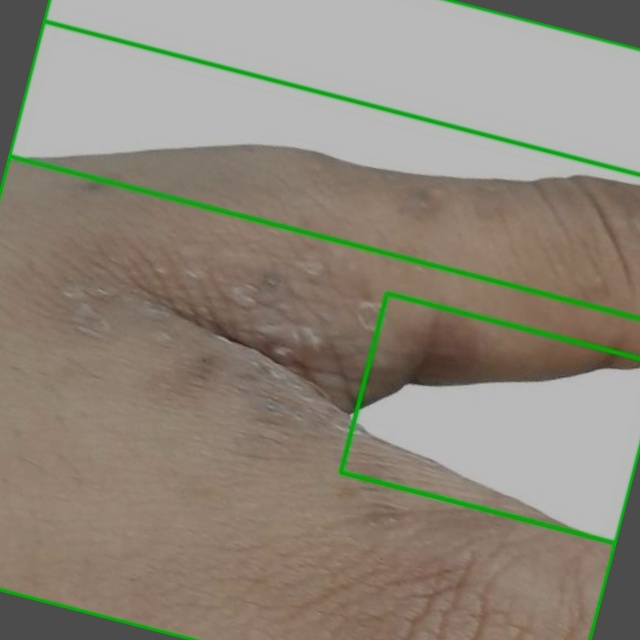Scabies: (0, 20, 639, 639), (8, 0, 639, 318), (340, 293, 639, 543)
